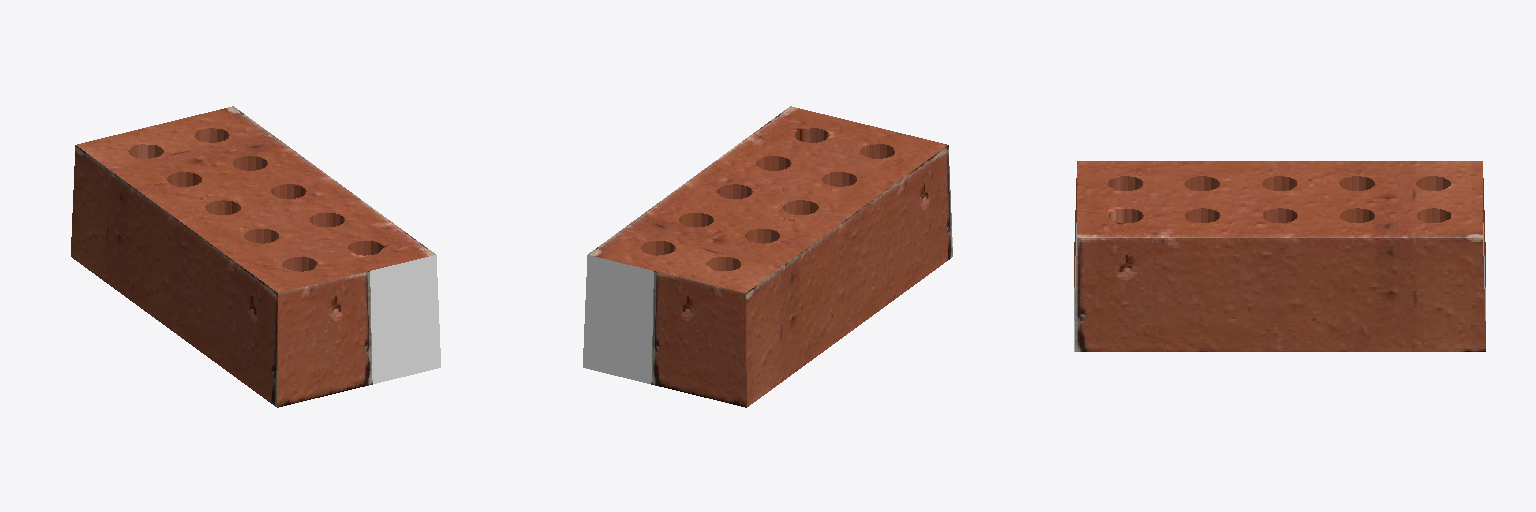
3 renders of one model, left to right at view 1: azimuth 30°, elevation 25°; view 2: azimuth 150°, elevation 25°; view 3: azimuth 270°, elevation 25°, orthographic.
Size of the model in its own units: 36.88 by 24.13 by 80.29.
Materials: 1 (1 with a texture image).